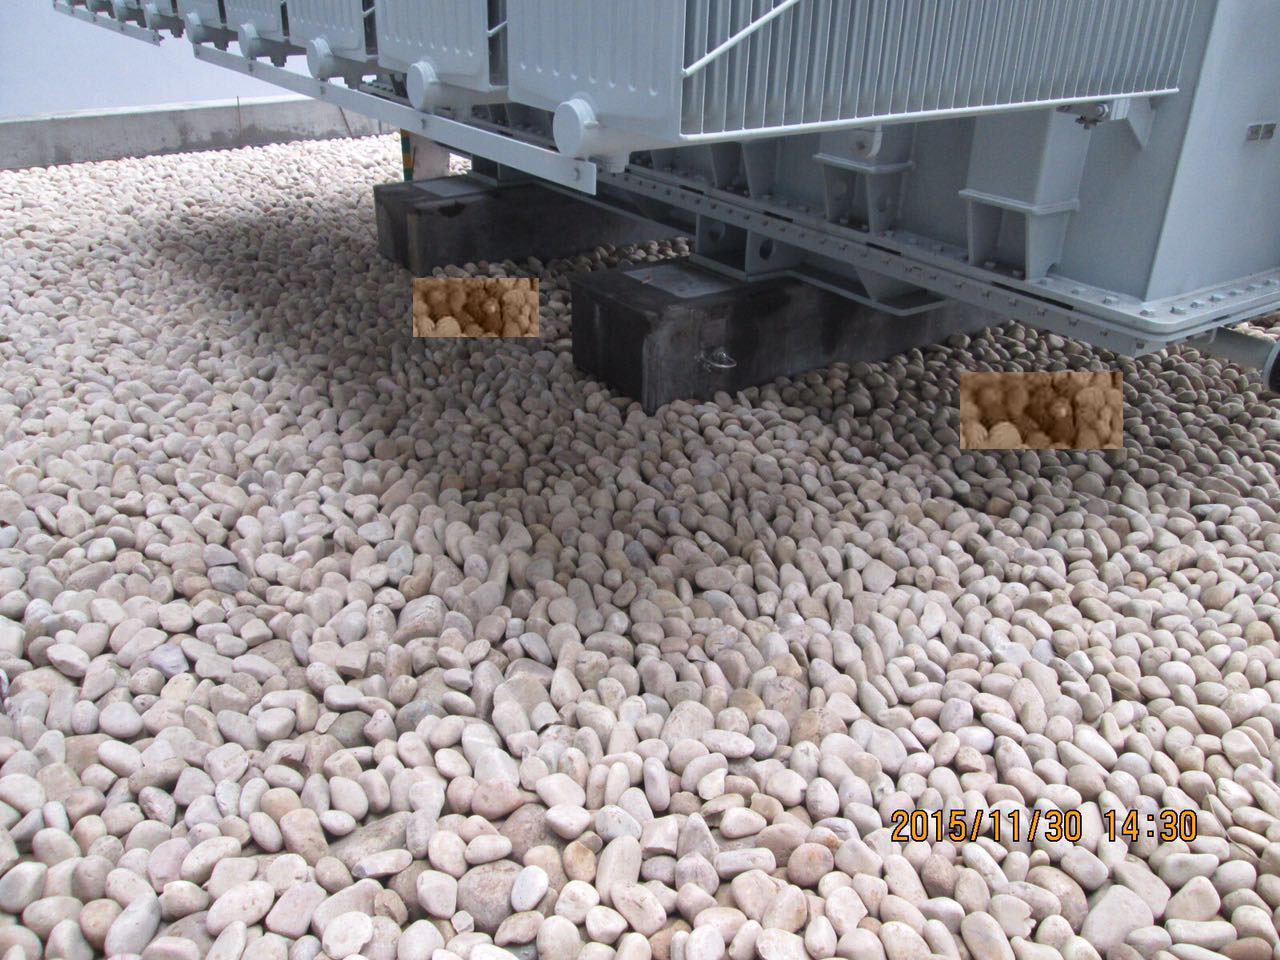oil: (958, 376, 1128, 450), (411, 274, 542, 336)
